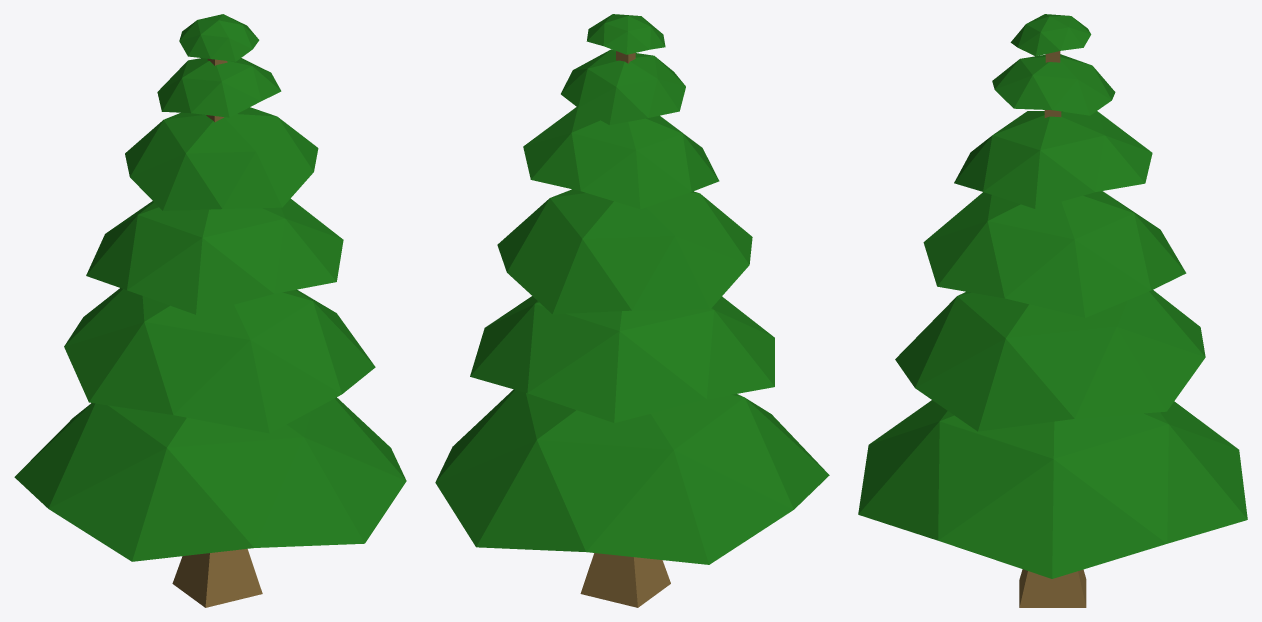
File: EvergreenFBX.fbx
3 renders of one model, left to right at view 1: azimuth 30°, elevation 25°; view 2: azimuth 150°, elevation 25°; view 3: azimuth 270°, elevation 25°, orthographic.
Parts seen in each view (by area): view 1: Plane; view 2: Plane; view 3: Plane.
Boxes of the visible parts, x1=… form: Plane: x1=14, y1=14, x2=406, y2=607; Plane: x1=435, y1=14, x2=829, y2=607; Plane: x1=858, y1=14, x2=1247, y2=607.
Bounding box in the file's own units: 1192 × 1901 × 1163.
